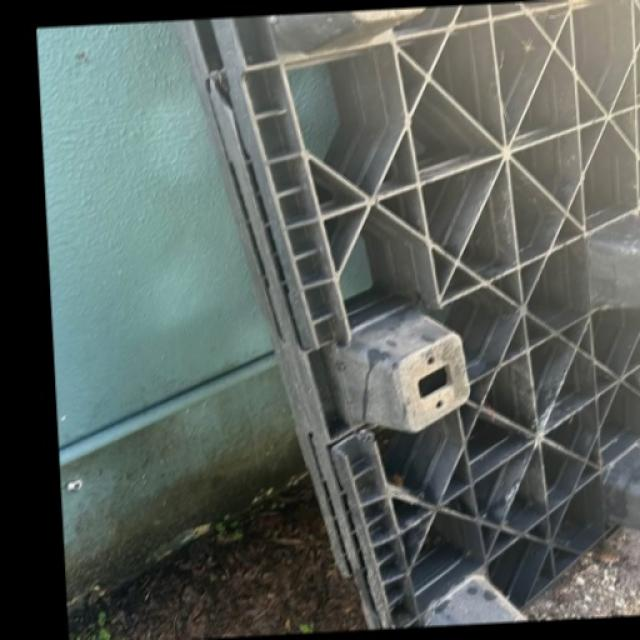non-igps: (172, 0, 640, 640)
